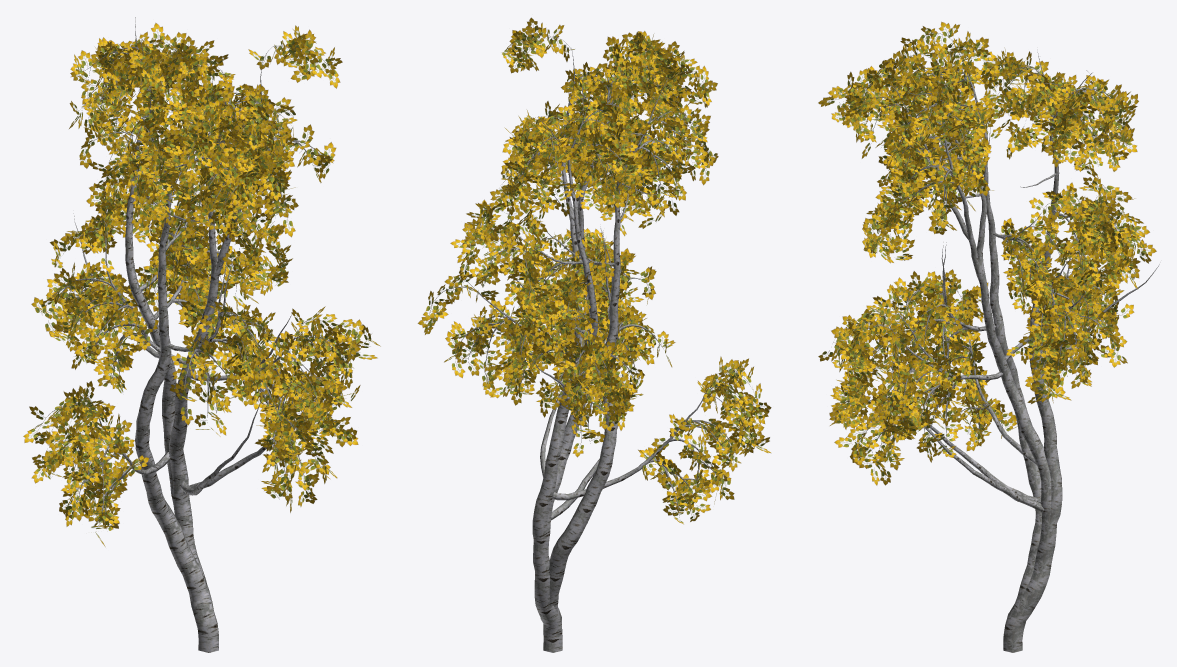
File: quaking_aspen_6.glb
The picture shows the model from 3 angles, left to right: view 1: azimuth 30°, elevation 25°; view 2: azimuth 150°, elevation 25°; view 3: azimuth 270°, elevation 25°; orthographic projection. The views are drawn at different scales.
Visible parts, largest first — view 1: foliage.006, structure.006; view 2: foliage.006, structure.006; view 3: foliage.006, structure.006.
Boxes of the visible parts, left/top/right/bottom form: foliage.006: left=23, top=23, right=380, bottom=546; structure.006: left=38, top=17, right=353, bottom=652; foliage.006: left=418, top=17, right=771, bottom=524; structure.006: left=429, top=35, right=752, bottom=652; foliage.006: left=818, top=22, right=1156, bottom=485; structure.006: left=835, top=33, right=1161, bottom=652.
Bounding box in the file's own units: 15.38 × 29.96 × 15.98.
2 materials, 2 textured.
